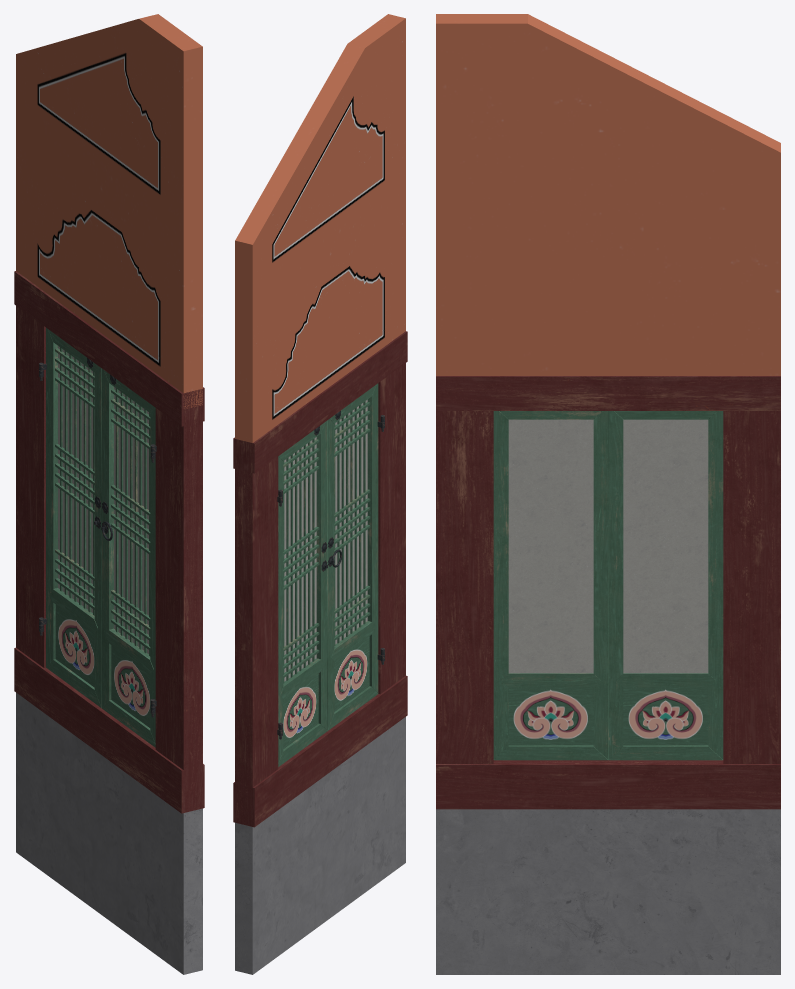
The model's file is SM_CGJ_Wall01e.fbx.
3 renders of one model, left to right at view 1: azimuth 30°, elevation 25°; view 2: azimuth 150°, elevation 25°; view 3: azimuth 270°, elevation 25°, orthographic. The views are drawn at different scales.
Visible parts, largest first — view 1: SM_CGJ_Wall01e; view 2: SM_CGJ_Wall01e; view 3: SM_CGJ_Wall01e.
Boxes of the visible parts, x1,y1,x2,y2 form: SM_CGJ_Wall01e: (14, 14, 204, 974); SM_CGJ_Wall01e: (233, 14, 407, 974); SM_CGJ_Wall01e: (436, 14, 780, 974).
Size of the model in its own units: 13.46 by 150 by 457.
7 materials, 7 textured.
